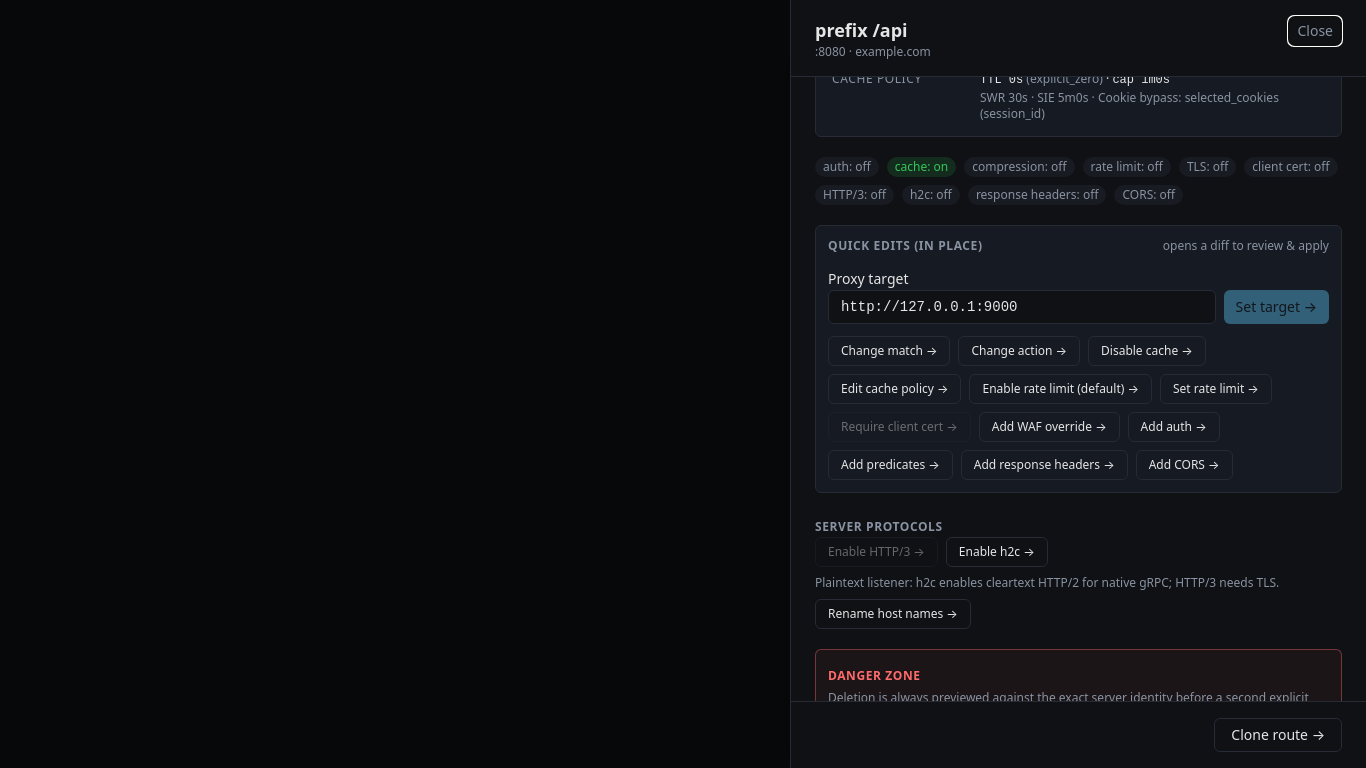
LocationCachePolicyEditor and RouteDetail integration › renders Cache policy row and generated TOML in RouteDetail and opens editor
(page scrolled)
Step 1. Click the button "Edit cache policy →" → (895, 389), box x1=828 y1=374 x2=962 y2=404
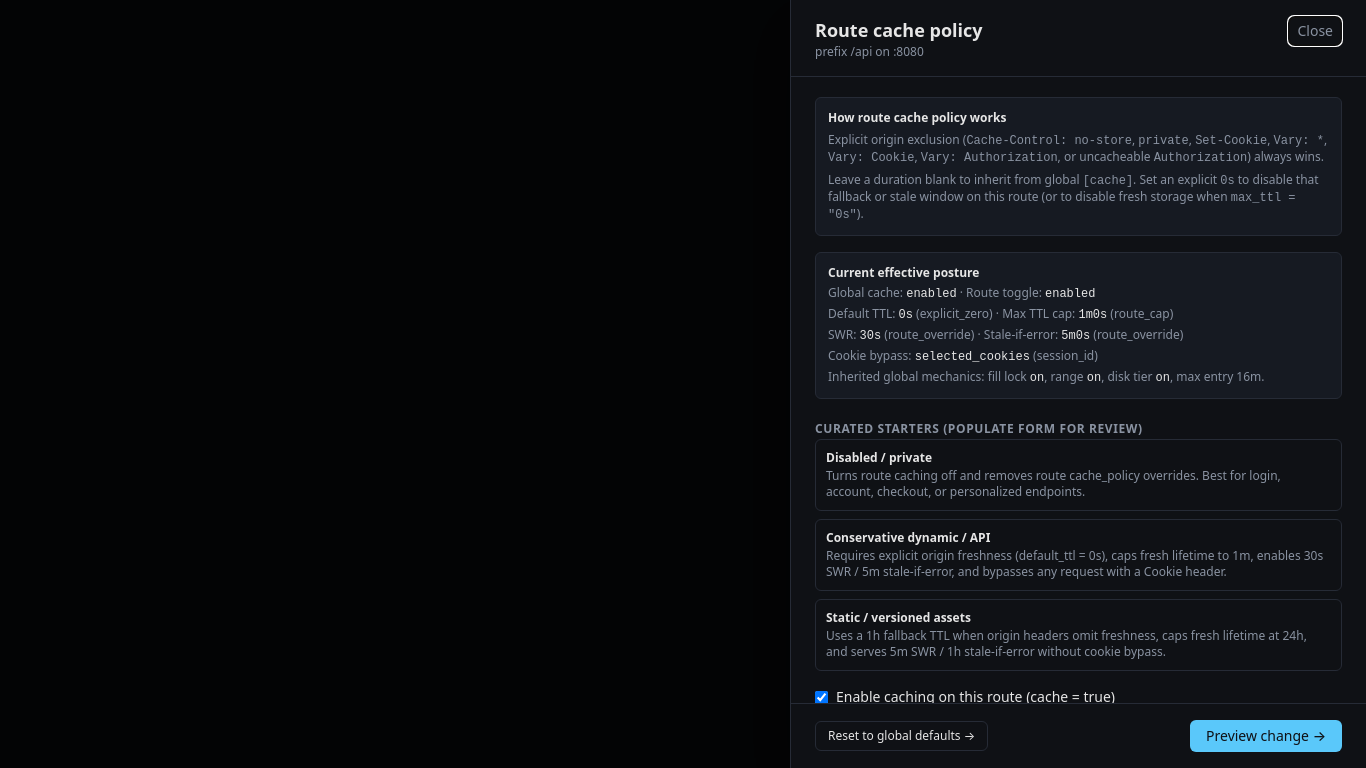
Expected: the heading "Route cache policy" is shown, x1=815 y1=16 x2=982 y2=44
